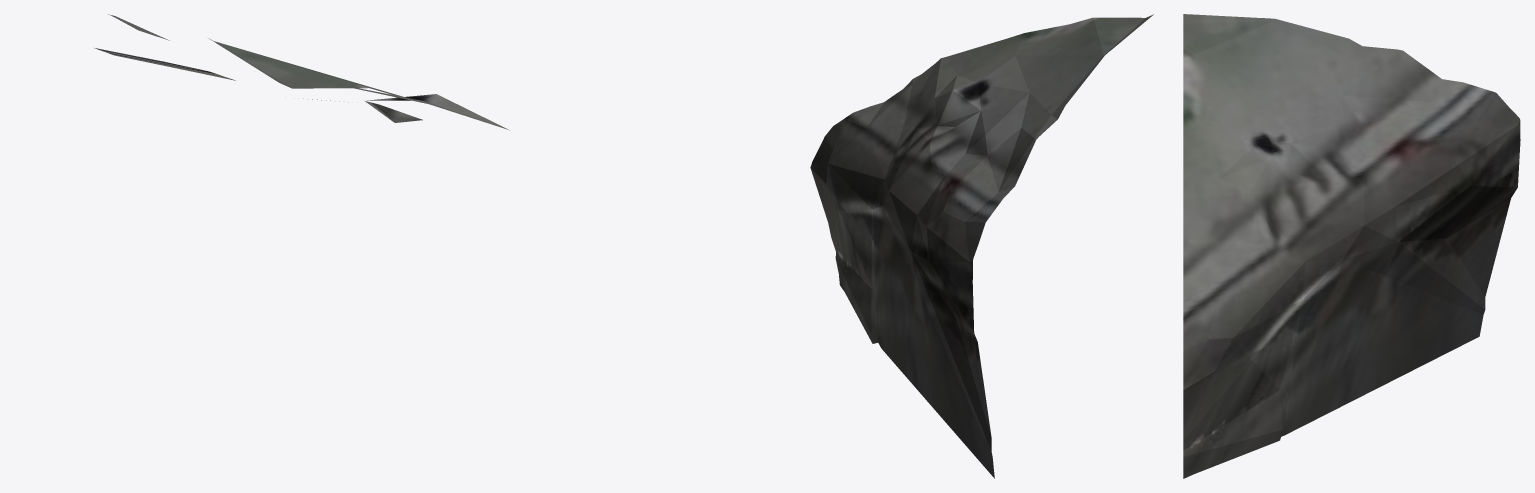
3 views of the same model, side by side, from view 1: azimuth 30°, elevation 25°; view 2: azimuth 150°, elevation 25°; view 3: azimuth 270°, elevation 25° (orthographic). The views are drawn at different scales.
Size of the model in its own units: 0.3629 by 0.3507 by 0.332.
1 material, 1 textured.
